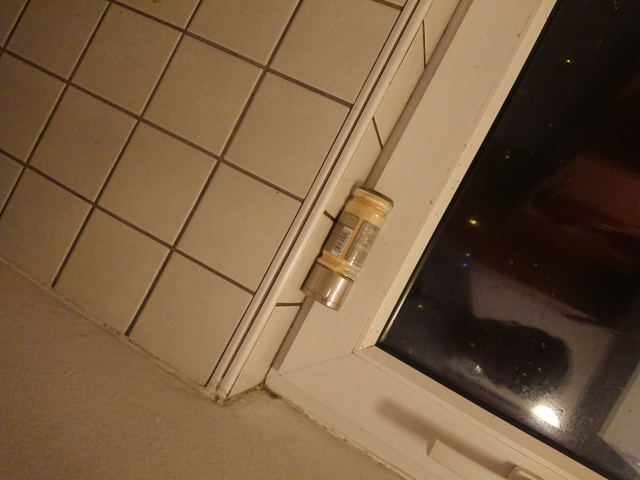Kotanyi Garlic Granules 70g: (297, 181, 397, 314)
